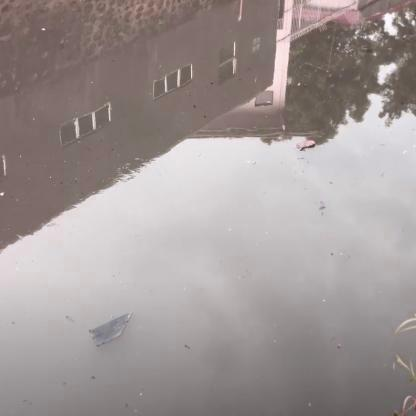Trash: (292, 137, 319, 154)
